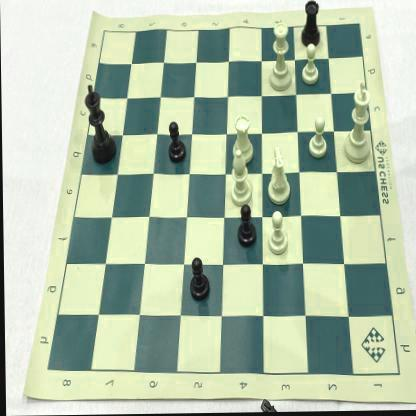black-king: (82, 82, 118, 169)
black-pawn: (184, 254, 212, 305), (164, 118, 188, 169), (233, 202, 259, 249)
black-rook: (297, 0, 325, 54)
white-bishop: (227, 146, 253, 212)
white-king: (340, 78, 374, 170)
white-knight: (263, 145, 292, 208)
white-pawn: (266, 209, 291, 260), (306, 114, 330, 164), (298, 43, 323, 88)
white-queen: (264, 18, 294, 94)
white-rook: (229, 110, 257, 168)
